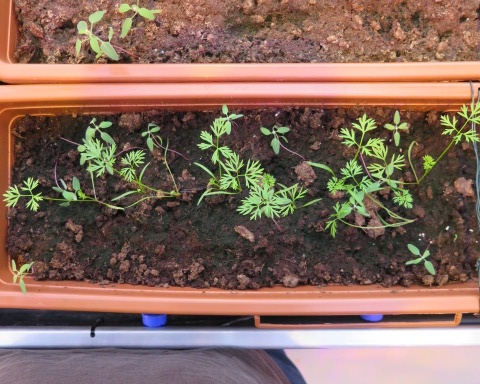crop: (328, 166, 422, 234), (87, 145, 181, 206), (415, 103, 477, 191), (198, 120, 246, 204), (4, 177, 46, 218)
weed: (73, 15, 136, 61), (117, 1, 169, 39), (141, 123, 187, 161), (49, 158, 81, 205), (403, 242, 437, 276), (257, 124, 293, 156), (383, 110, 409, 147), (10, 259, 38, 291), (84, 118, 118, 144), (216, 106, 243, 133)
